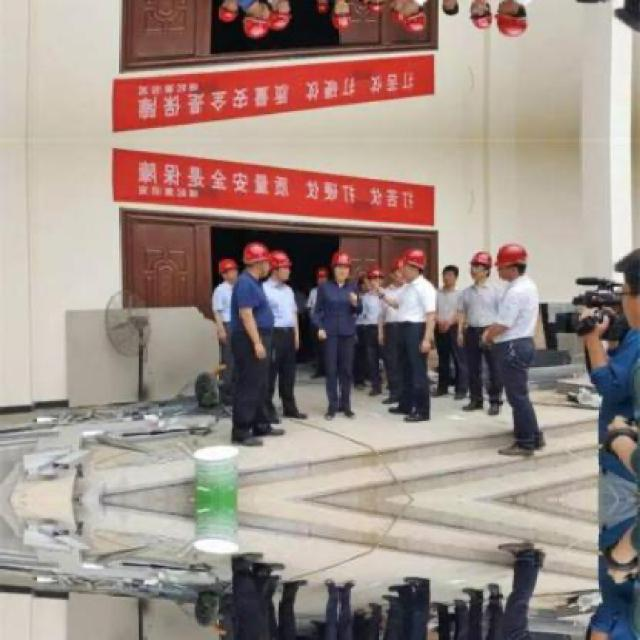con casco: (227, 226, 301, 283), (473, 230, 539, 289), (395, 241, 462, 278), (329, 242, 368, 288)
